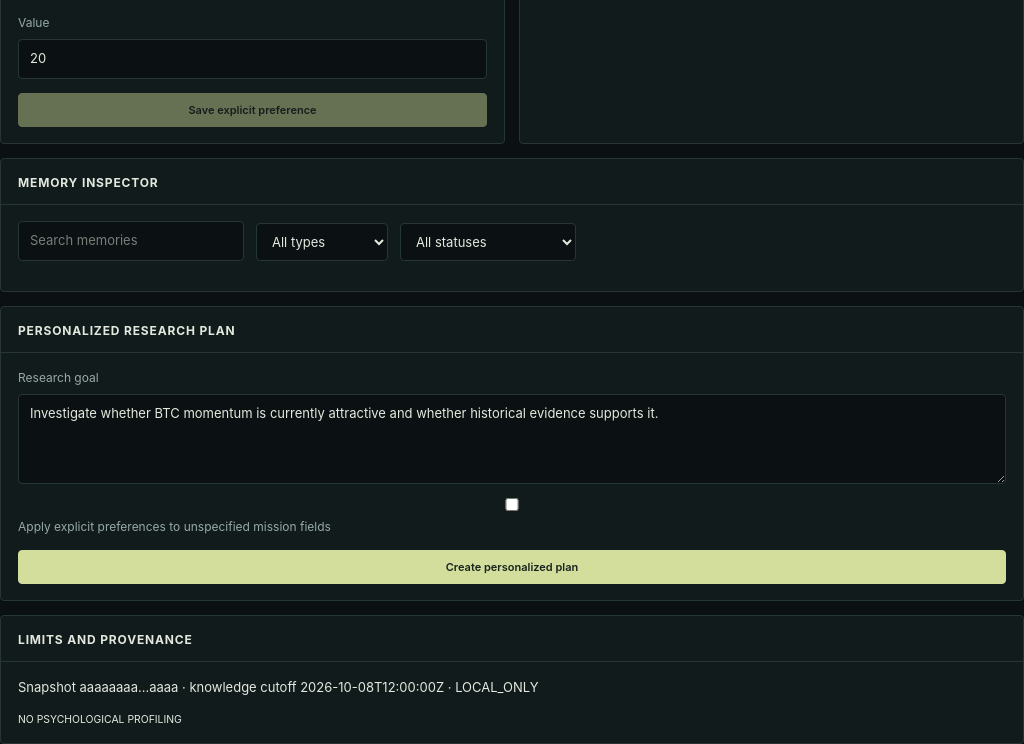
My Research › creates a personalized plan with provenance and preserves the canonical manifest
The width and height of the screenshot is (1024, 744).
(page scrolled)
Click the button "Create personalized plan" at (512, 567), box [18,550,1006,584]
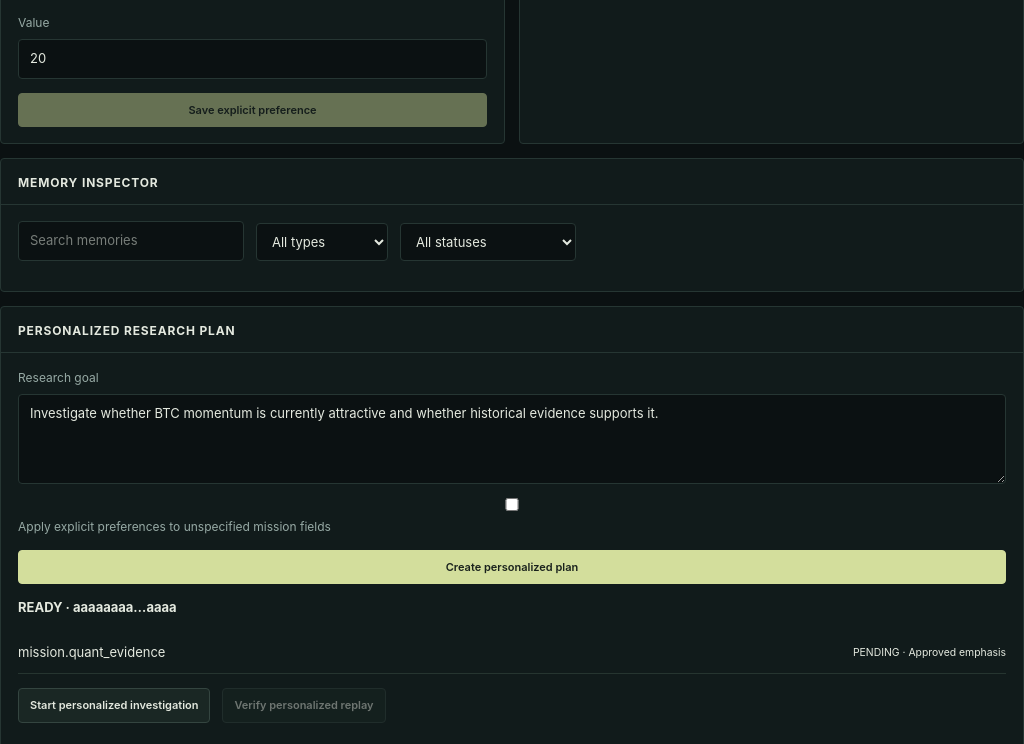
Expected: the text "mission.quant_evidence" is shown, [18,643,166,662]
Expected: the button "Start personalized investigation" is enabled, [18,688,210,723]
